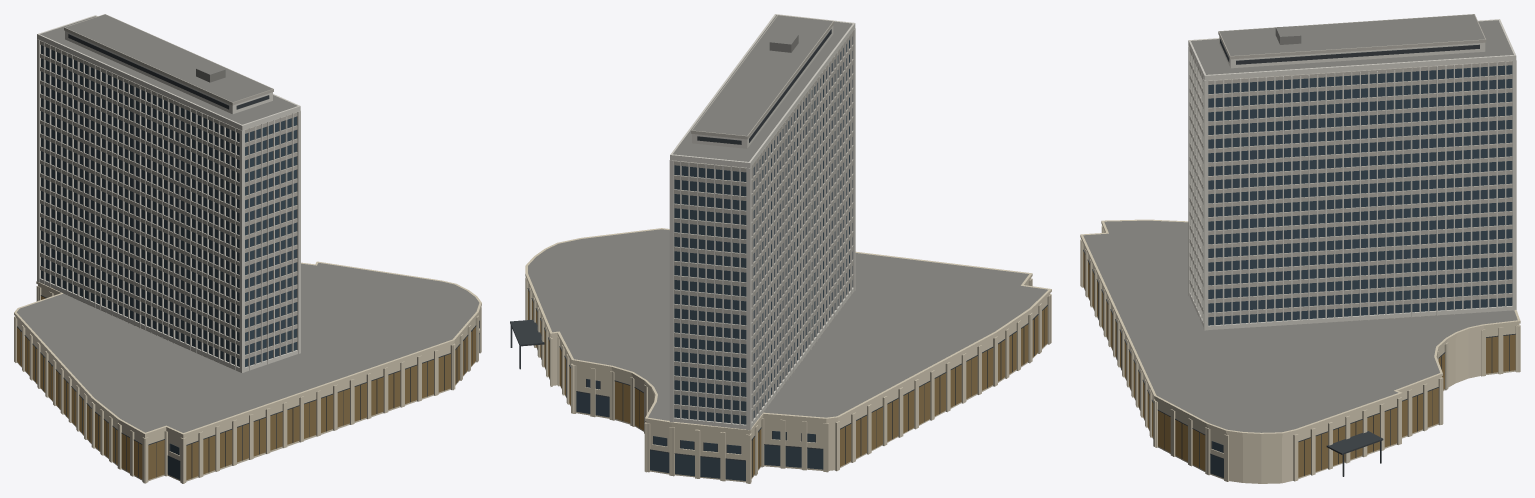
File: royal_lancaster_london.glb
The picture shows the model from 3 angles, left to right: view 1: azimuth 30°, elevation 25°; view 2: azimuth 150°, elevation 25°; view 3: azimuth 270°, elevation 25°; orthographic projection. The views are drawn at different scales.
Size of the model in its own units: 88.94 by 67.75 by 81.19.
